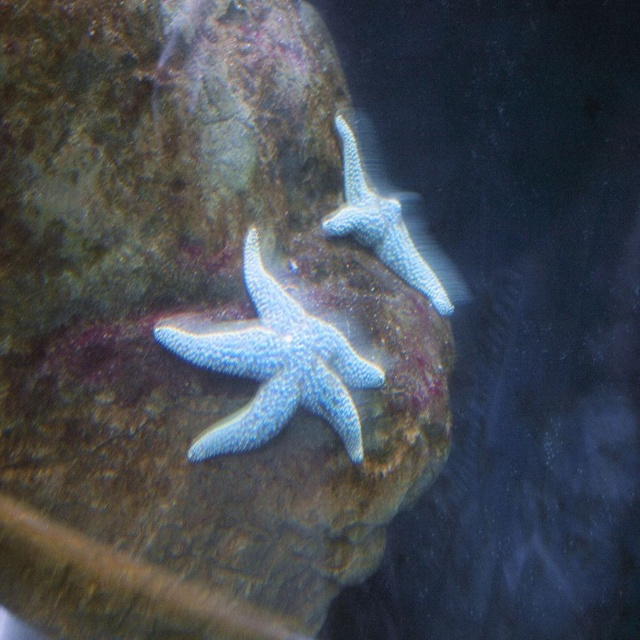Starfish: (154, 226, 385, 464), (311, 115, 455, 318)
